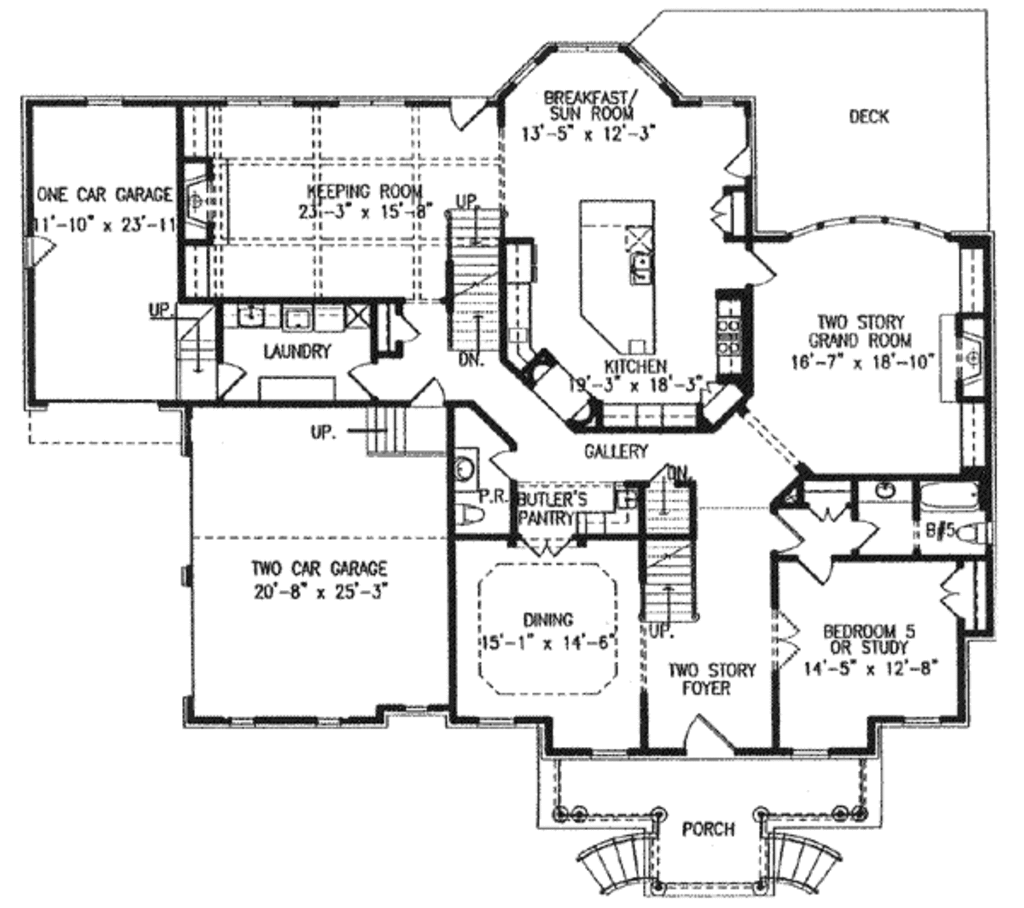door: (677, 712, 736, 761), (773, 604, 806, 669), (740, 241, 779, 287), (445, 98, 489, 137), (340, 359, 378, 403), (716, 141, 754, 182), (707, 192, 738, 239), (940, 566, 968, 618), (488, 441, 519, 483), (798, 553, 836, 582), (408, 378, 445, 407), (853, 518, 879, 555), (395, 315, 424, 345)
kitchen_bar: (571, 194, 662, 360)
large_sink: (947, 517, 987, 550), (456, 496, 489, 532)
small_sink: (854, 479, 912, 504)
stairs: (584, 822, 841, 908), (645, 463, 701, 644), (444, 190, 496, 362), (147, 302, 222, 399), (352, 405, 447, 461)
tub: (912, 477, 984, 513)
windows: (790, 212, 947, 251), (224, 91, 301, 116), (551, 32, 620, 58), (331, 90, 413, 111)
